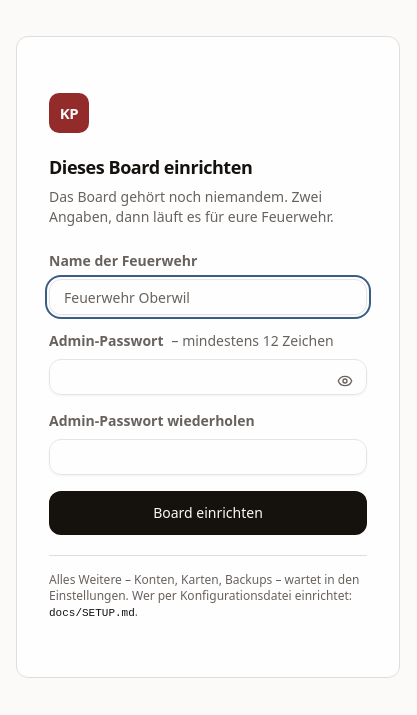
Test: SetupPage › refuses a short password without asking the server
Type "Feuerwehr Testwil" into the field labelled "Name der Feuerwehr" at (208, 297), box x1=49 y1=279 x2=367 y2=315
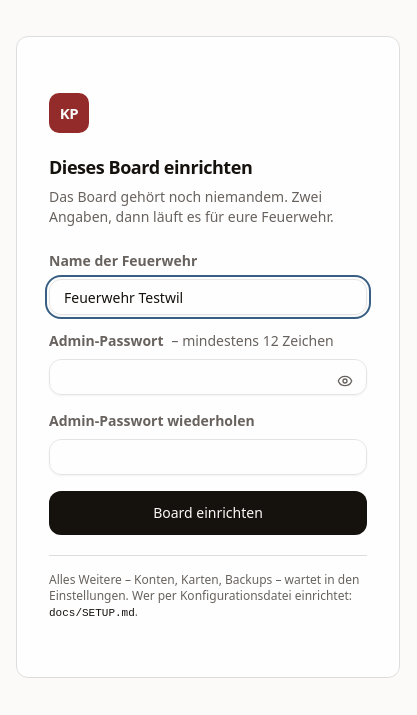
Type "elf-zeichen" into the password field labelled "Admin-Passwort – mindestens 12 Zeichen" at (208, 377), box x1=49 y1=359 x2=367 y2=395
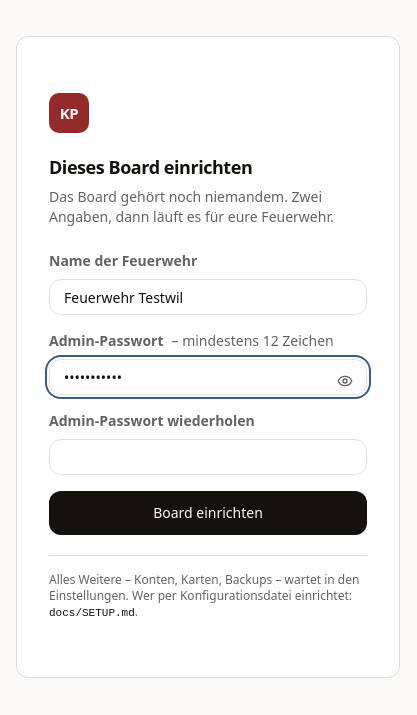
Type "elf-zeichen" into the password field labelled "Admin-Passwort wiederholen" at (208, 457), box x1=49 y1=439 x2=367 y2=475
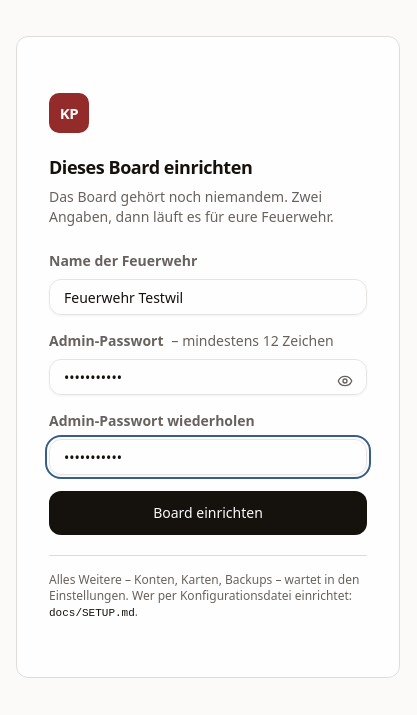
Click the button "Board einrichten" at (208, 513), box x1=49 y1=491 x2=367 y2=535
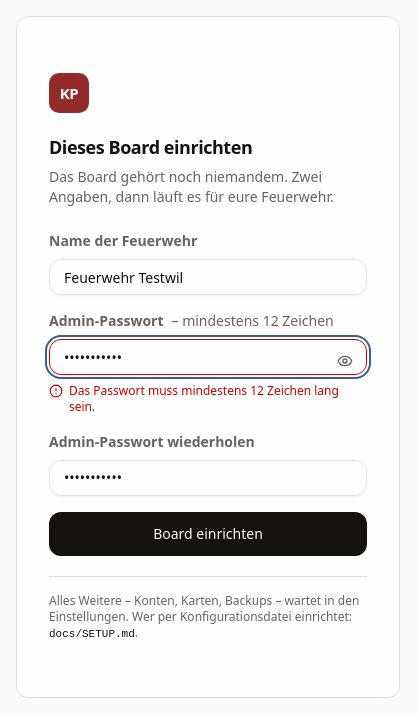
Expected: the text "Das Passwort muss mindestens 12 Zeichen lang sein." is shown, x1=69 y1=383 x2=367 y2=416
